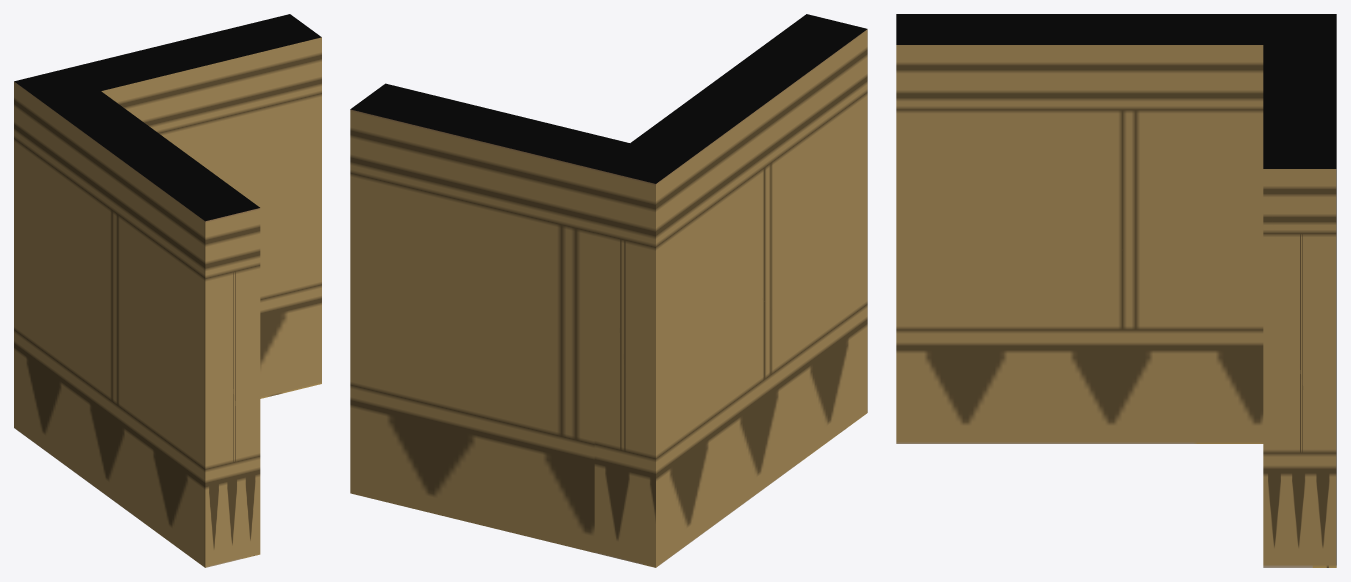
File: corner 1.fbx
3 views of the same model, side by side, from view 1: azimuth 30°, elevation 25°; view 2: azimuth 150°, elevation 25°; view 3: azimuth 270°, elevation 25° (orthographic). The views are drawn at different scales.
Visible parts, largest first — view 1: Corner 1; view 2: Corner 1; view 3: Corner 1.
Boxes of the visible parts, x1=… form: Corner 1: x1=14, y1=14, x2=321, y2=567; Corner 1: x1=350, y1=14, x2=867, y2=567; Corner 1: x1=896, y1=14, x2=1336, y2=567.
Size of the model in its own units: 5 by 6 by 6.
